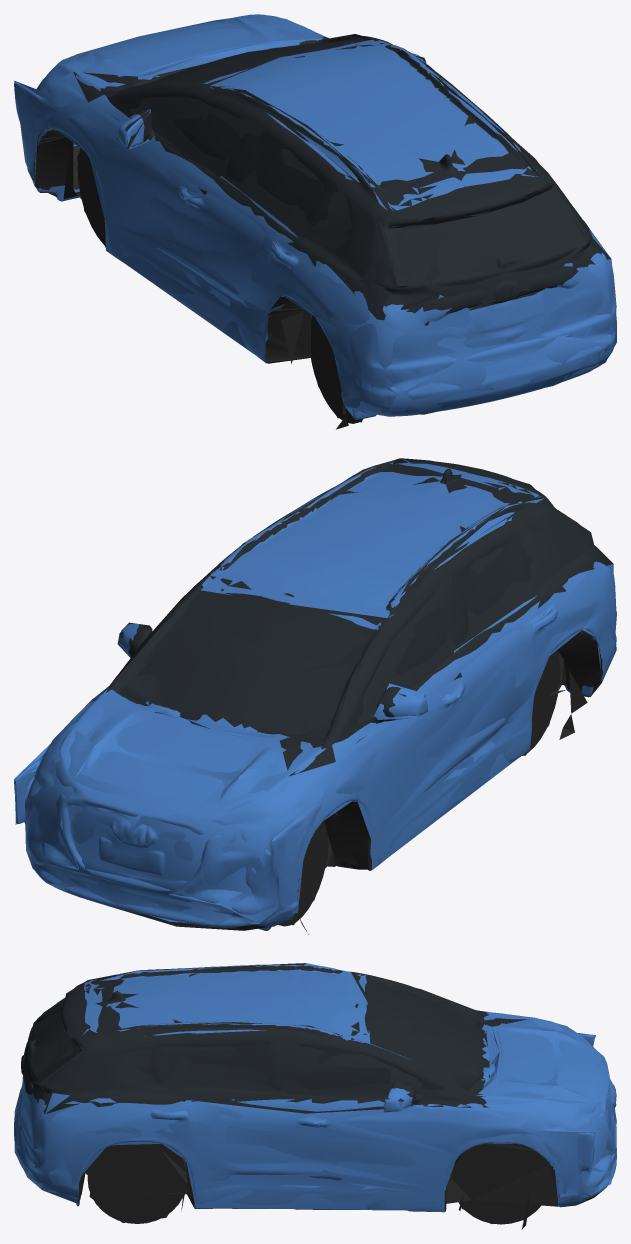
File: audi-q4-e-tron.glb
3 views of the same model, one above another, from view 1: azimuth 30°, elevation 25°; view 2: azimuth 150°, elevation 25°; view 3: azimuth 270°, elevation 25° (orthographic). The views are drawn at different scales.
Parts seen in each view (by area): view 1: body, far; view 2: body, far; view 3: body, far.
Part boxes in pixels (x1,y1,x2,y2): body: (14,14,616,429); far: (14,16,616,423); body: (14,461,616,934); far: (14,458,616,925); body: (14,964,616,1229); far: (14,963,616,1227).
Bounding box in the file's own units: 2.1 × 1.68 × 4.63.
